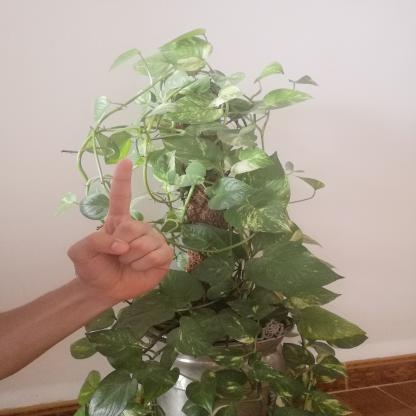BAA: (52, 145, 184, 308)
